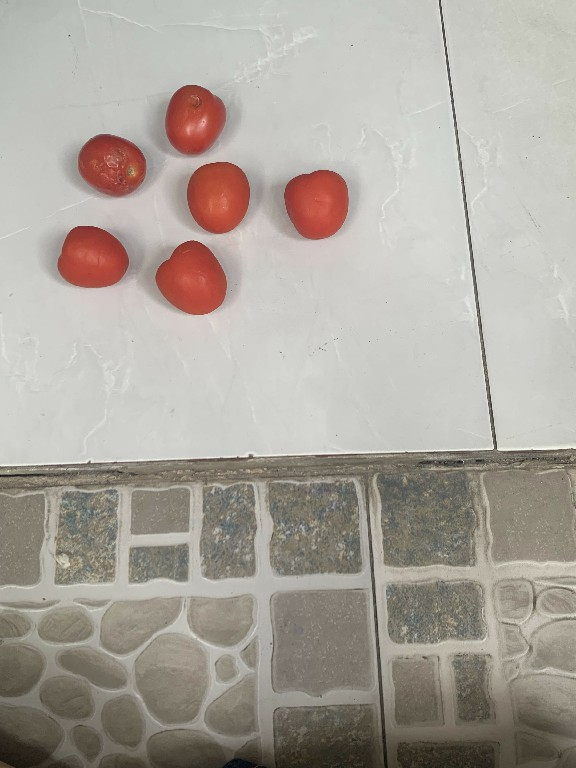NG: (155, 79, 229, 156), (70, 125, 145, 198)
OK: (146, 236, 233, 317), (51, 217, 138, 292), (179, 157, 256, 237), (281, 164, 356, 243)
